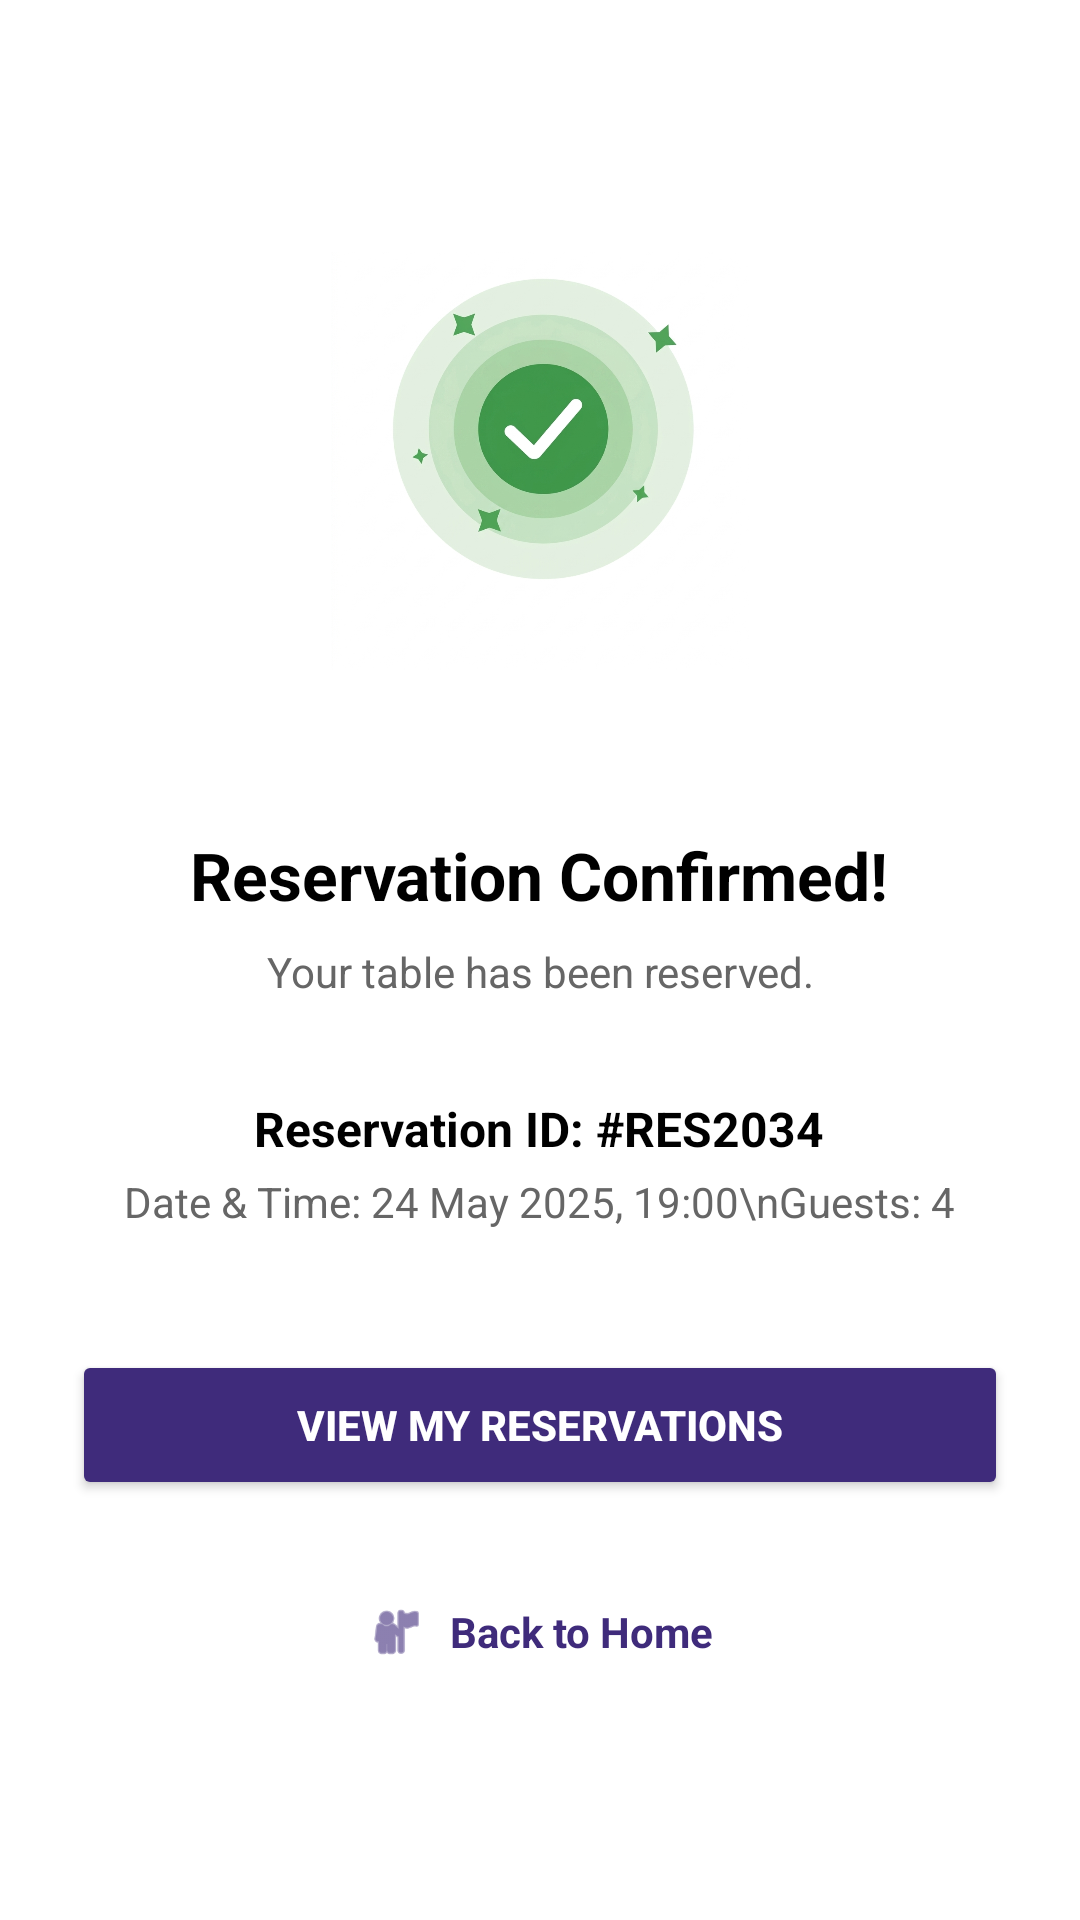

Named icons in this screenshot (1080x1920) and their centers, (x=x, y=y):
Checkmark: (x=543, y=429)
myplaces: (x=396, y=1632)
